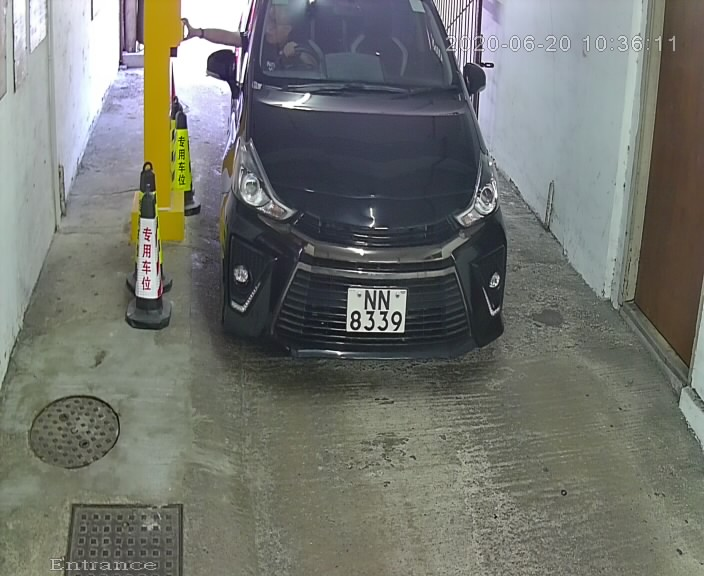privatecar: (194, 3, 521, 375)
